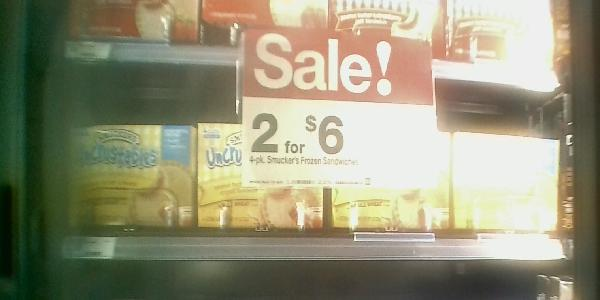icecream: (326, 125, 451, 232), (65, 128, 197, 227), (202, 126, 324, 232), (454, 135, 570, 231)
